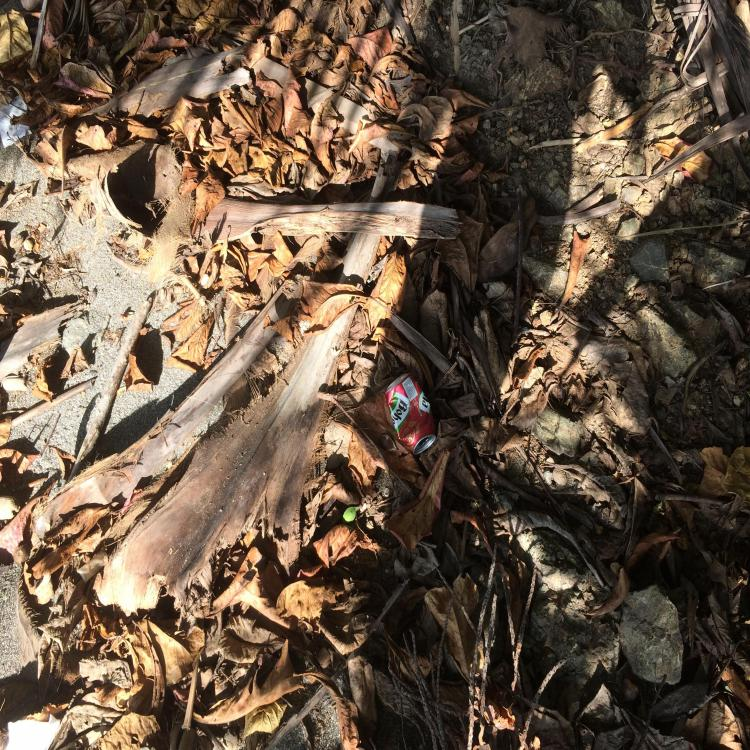Drink can: (385, 373, 436, 455)
